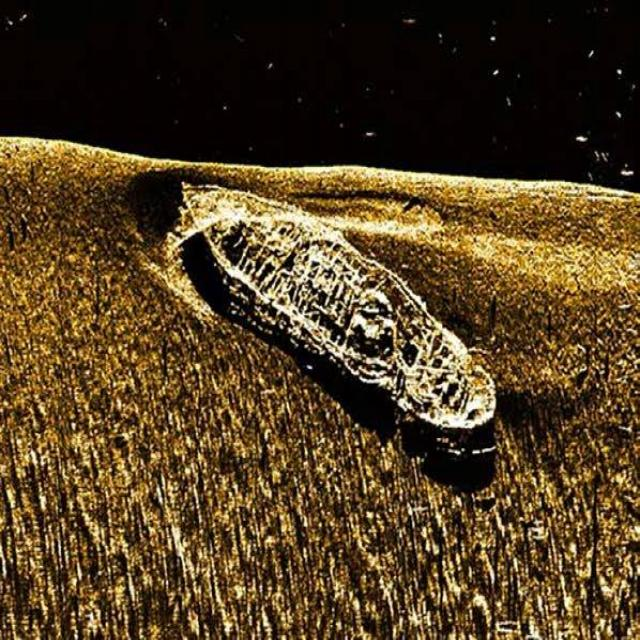ship: (175, 173, 498, 433)
